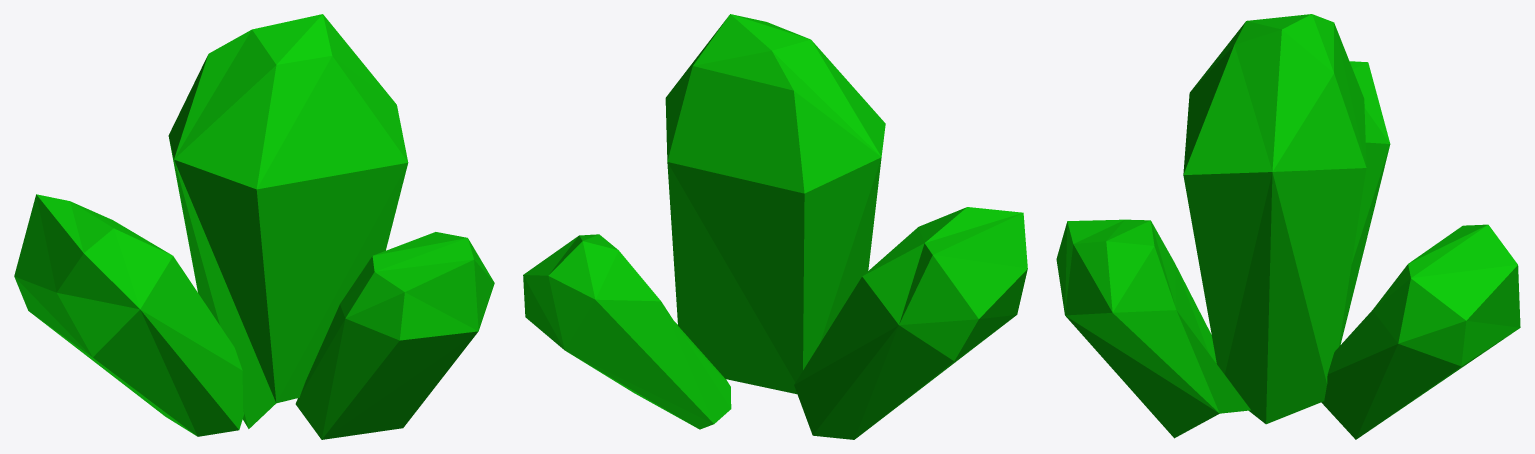
Rendered from crystal.obj.
3 views of the same model, side by side, from view 1: azimuth 30°, elevation 25°; view 2: azimuth 150°, elevation 25°; view 3: azimuth 270°, elevation 25° (orthographic). The views are drawn at different scales.
Visible parts, largest first — view 1: Cube_Cube.001; view 2: Cube_Cube.001; view 3: Cube_Cube.001.
Part boxes in pixels (bbox=[...]): Cube_Cube.001: bbox=[14, 14, 494, 439]; Cube_Cube.001: bbox=[523, 14, 1027, 439]; Cube_Cube.001: bbox=[1056, 14, 1520, 439].
Size of the model in its own units: 7.91 by 7.22 by 7.7.
